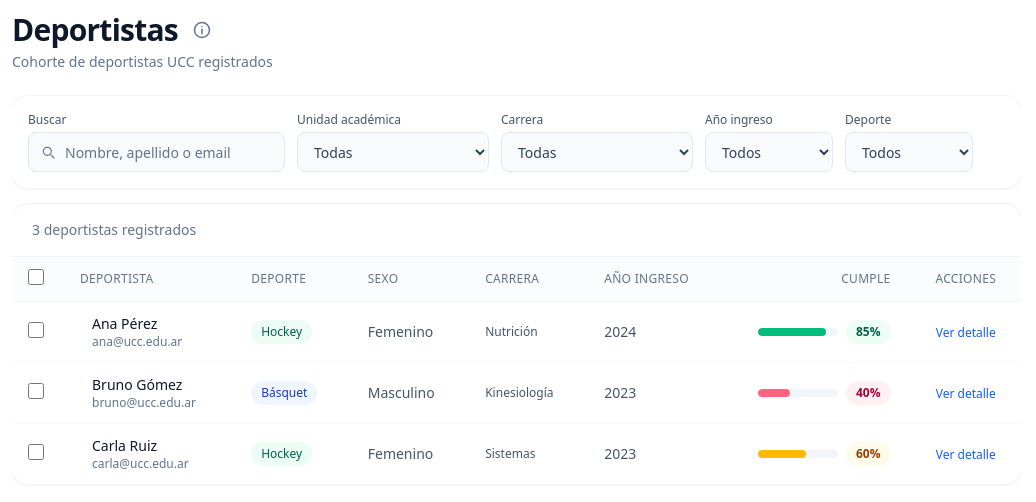
Test: Deportistas › "Limpiar" aparece con filtros activos y los saca todos
Expected: the button "Limpiar" is not shown
Select "Básquet" in the dropdown labelled "Deporte" at (909, 152), box x1=845 y1=132 x2=973 y2=172
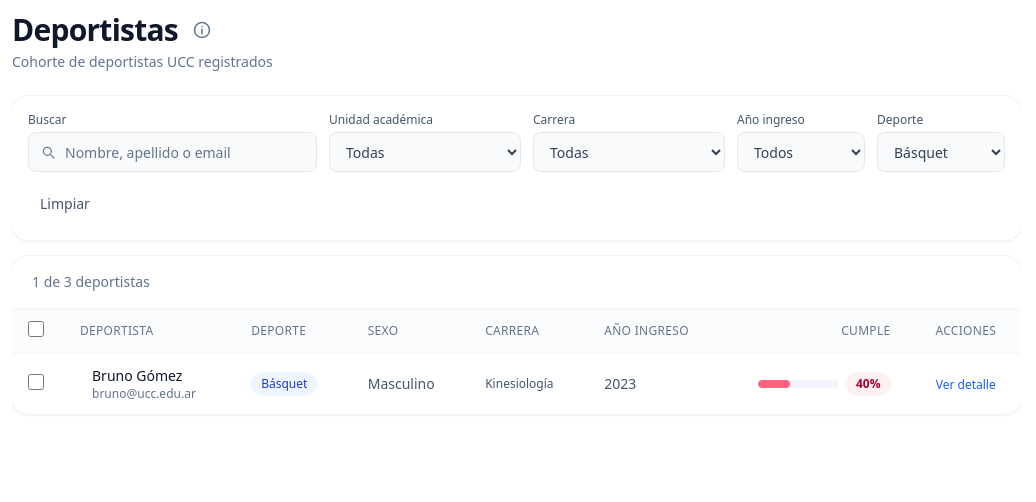
Click the button "Limpiar" at (65, 204), box x1=28 y1=184 x2=102 y2=224
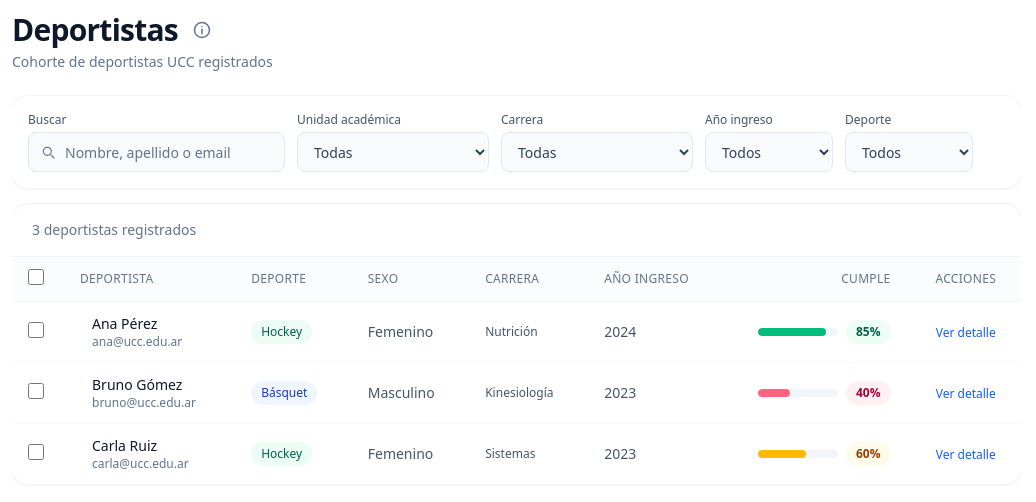
Result: the text "3 deportistas registrados" is shown at x1=32 y1=220 x2=196 y2=239
